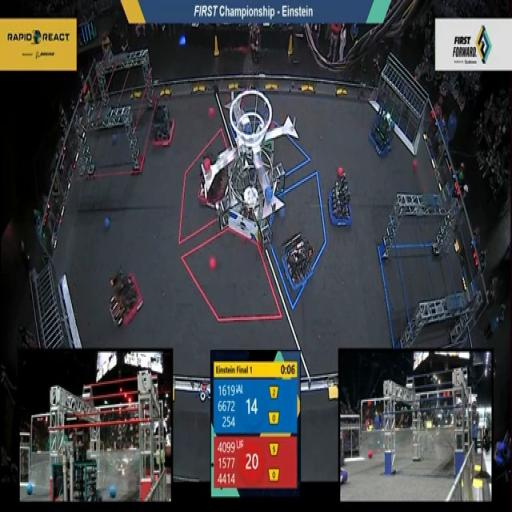robot: (105, 257, 148, 330), (278, 224, 319, 292), (365, 94, 402, 161), (146, 92, 182, 155), (322, 169, 357, 233), (192, 155, 230, 208)
